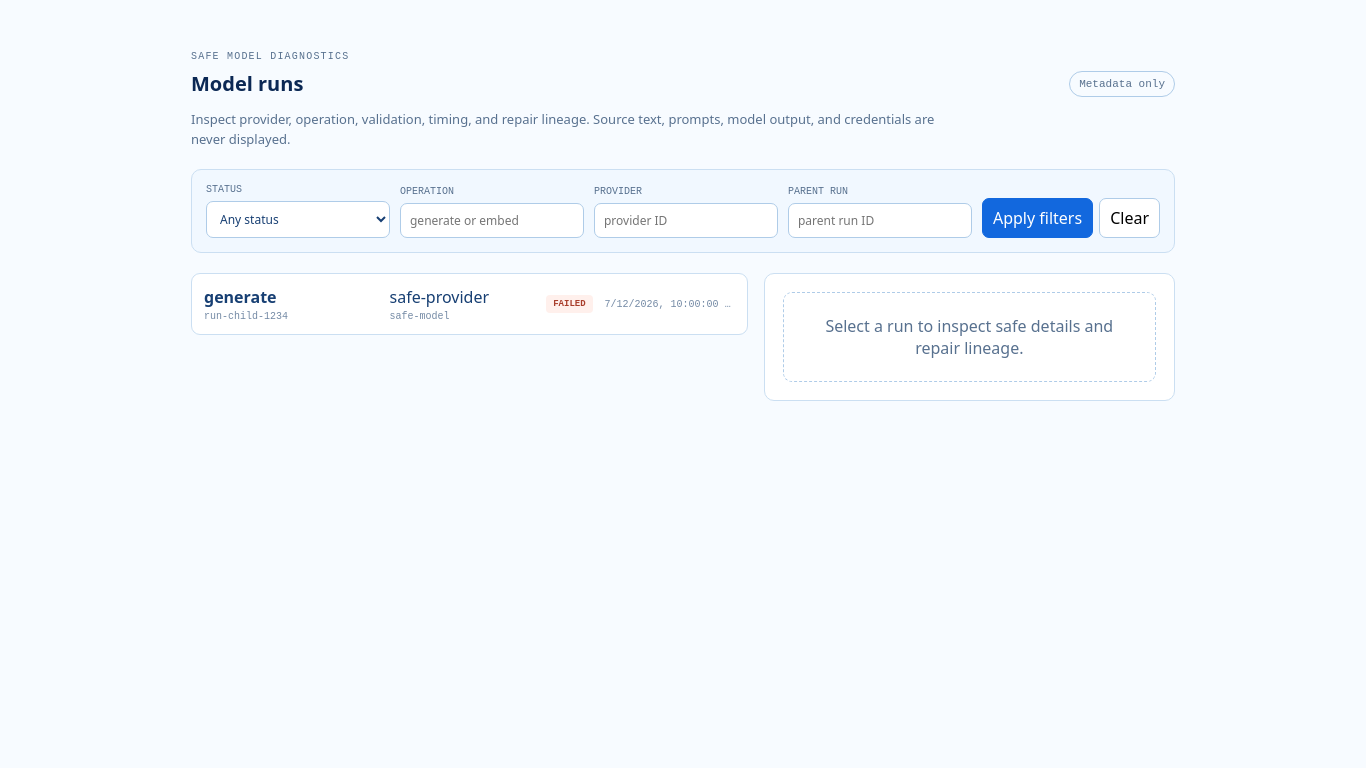
Test case: safe model-run diagnostics › opens safe detail and repair lineage without rendering private payload fields
Step 1. Click the button with aria-label "Open model run run-child-1234" → (469, 304), box [191,273,748,335]
(page scrolled)
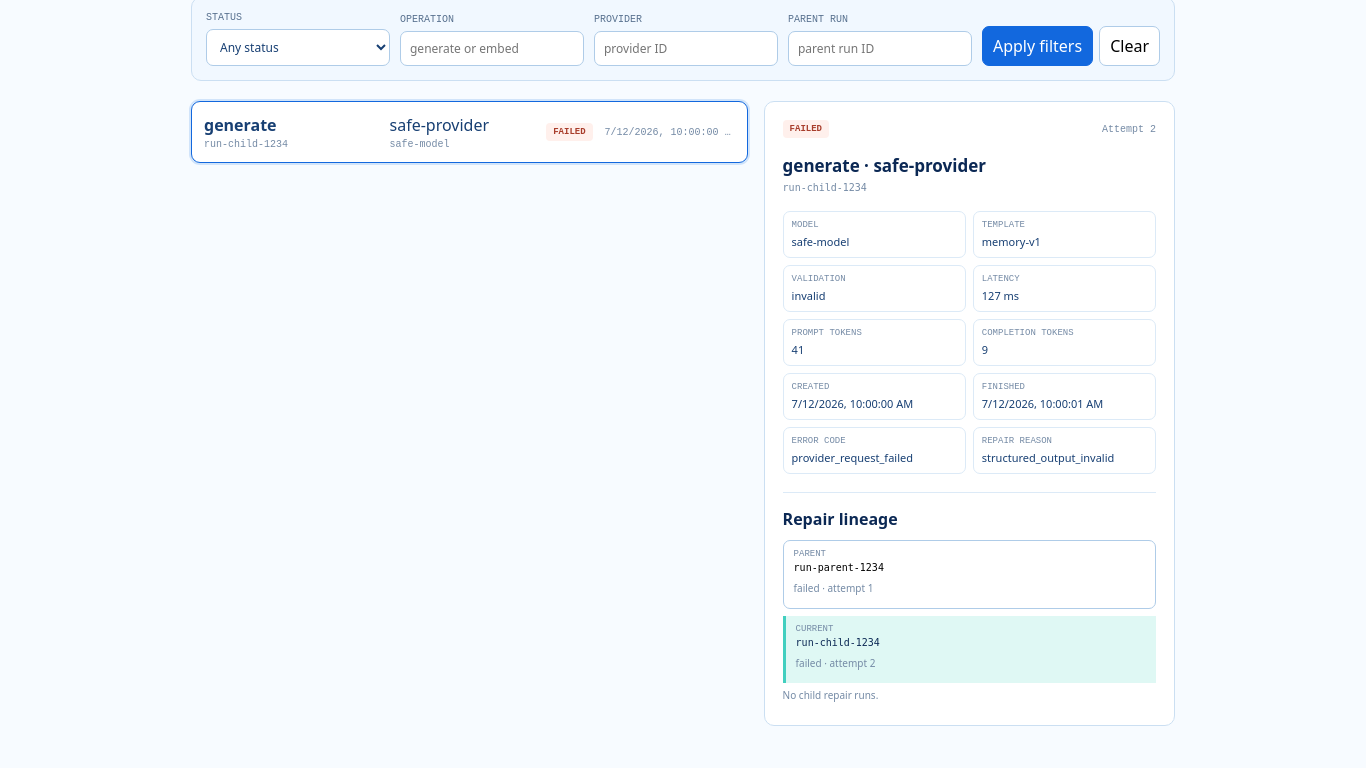
Expected: the element "generate · safe-provider" is shown, [764,101,1175,726]
Expected: the text "provider_request_failed" is shown, [792,450,913,465]
Expected: the text "structured_output_invalid" is shown, [982,450,1114,465]
